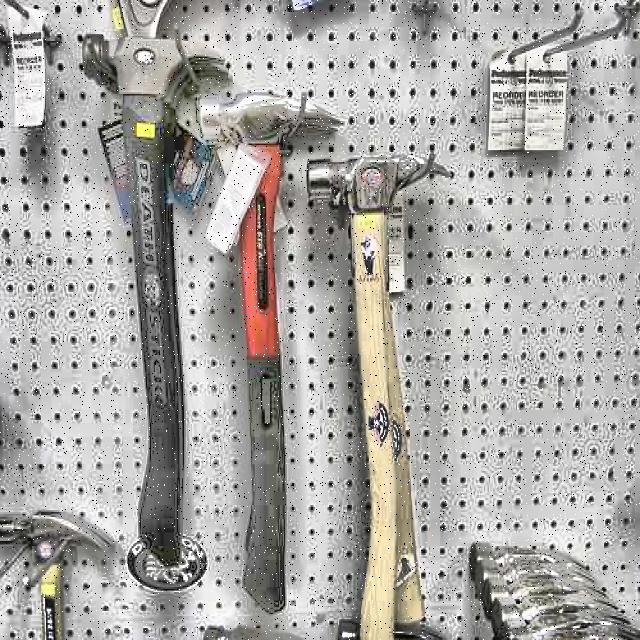hammer: (83, 30, 223, 573), (201, 90, 339, 613), (308, 151, 448, 639)
